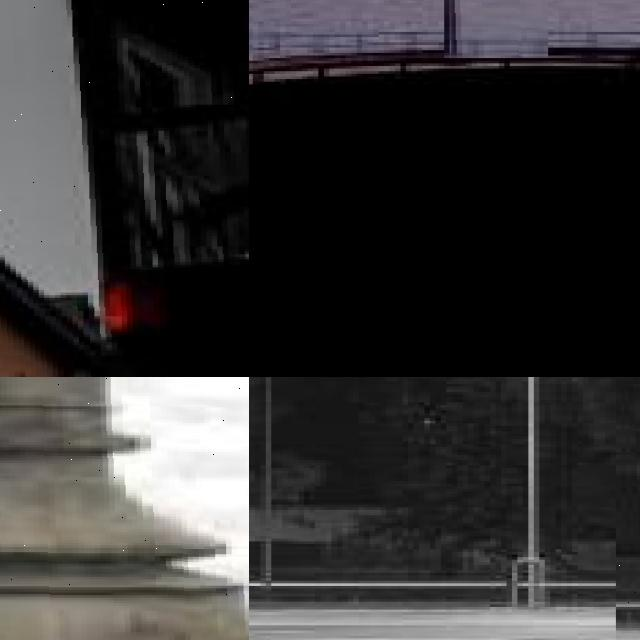street light: (0, 0, 249, 377), (0, 377, 249, 640), (512, 377, 545, 607), (616, 377, 640, 640), (444, 0, 548, 58)
